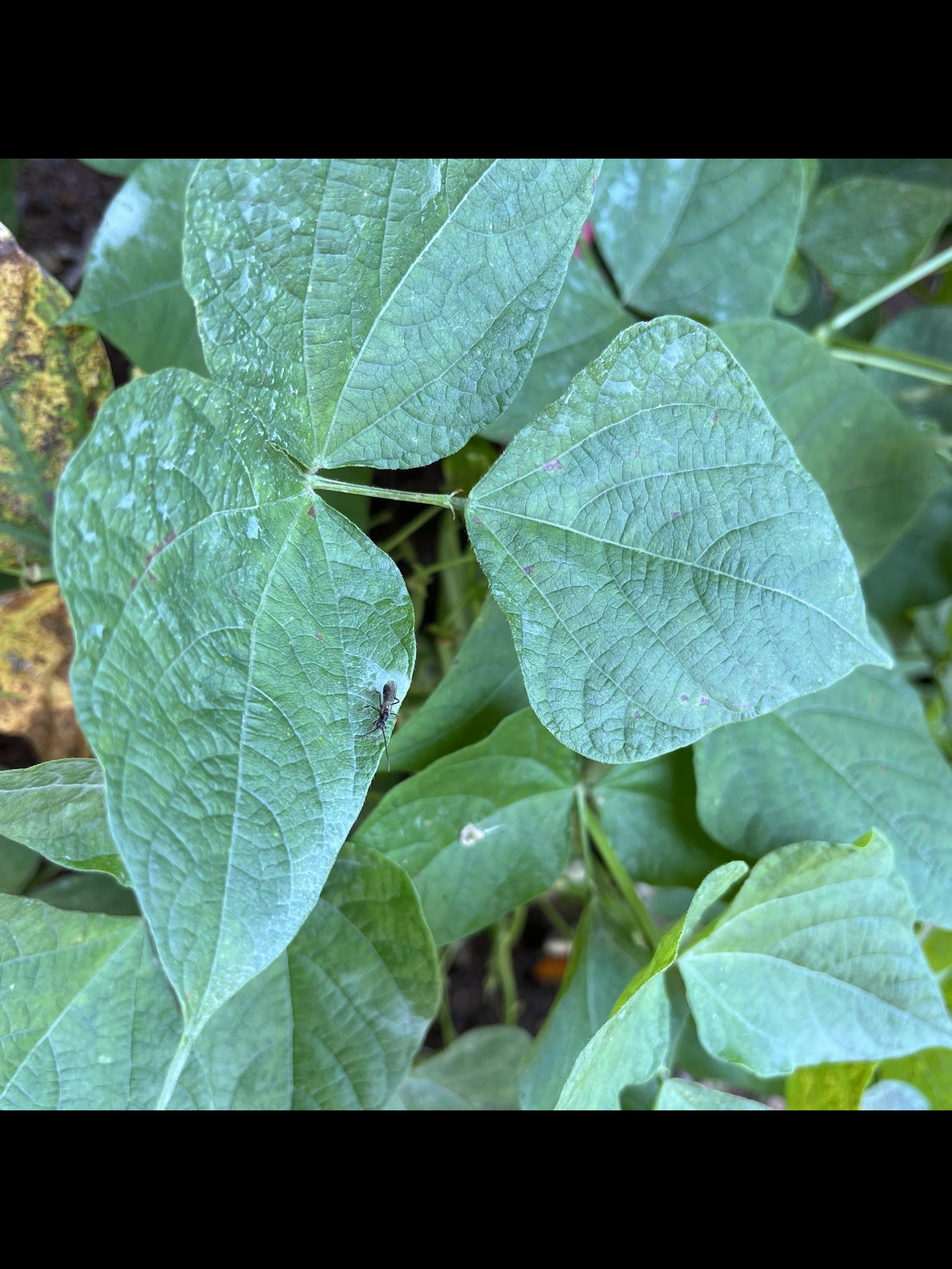embun tepung: (74, 165, 169, 273)
